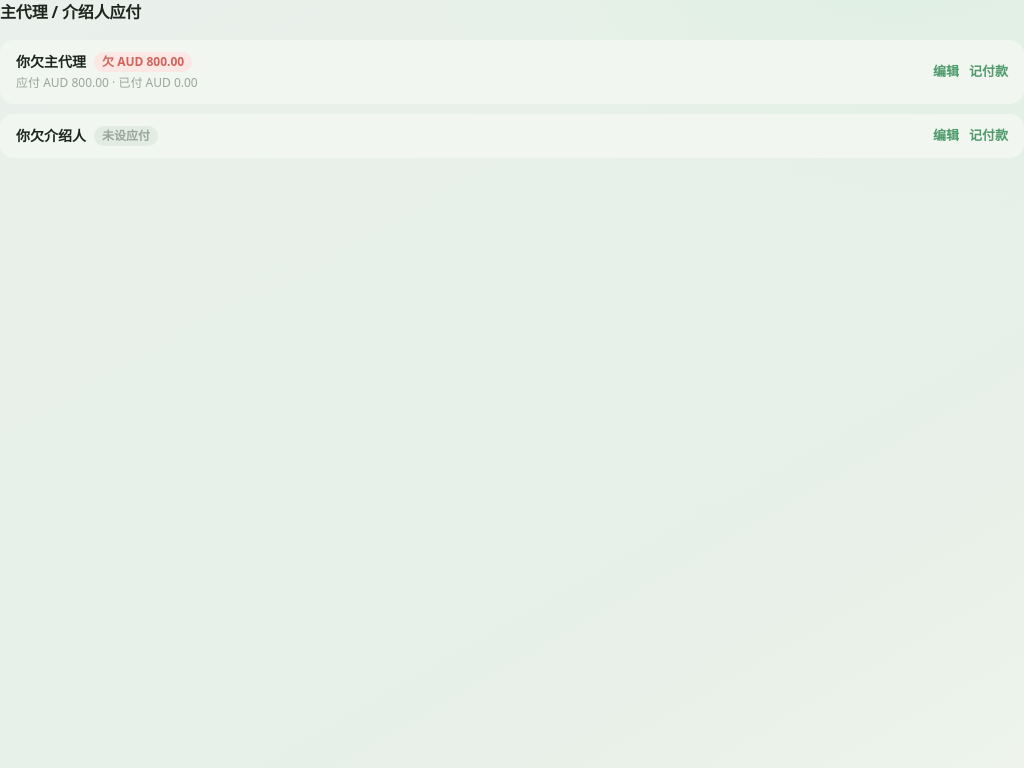
PayablePanel 每行操作 + 状态派生 › 金额必须 > 0：空/0/负数时「确认付款」禁用，正数才启用
Click the button "记付款" in the row of "AUD 0.00": {"x": 988, "y": 72} [969,62,1008,82]
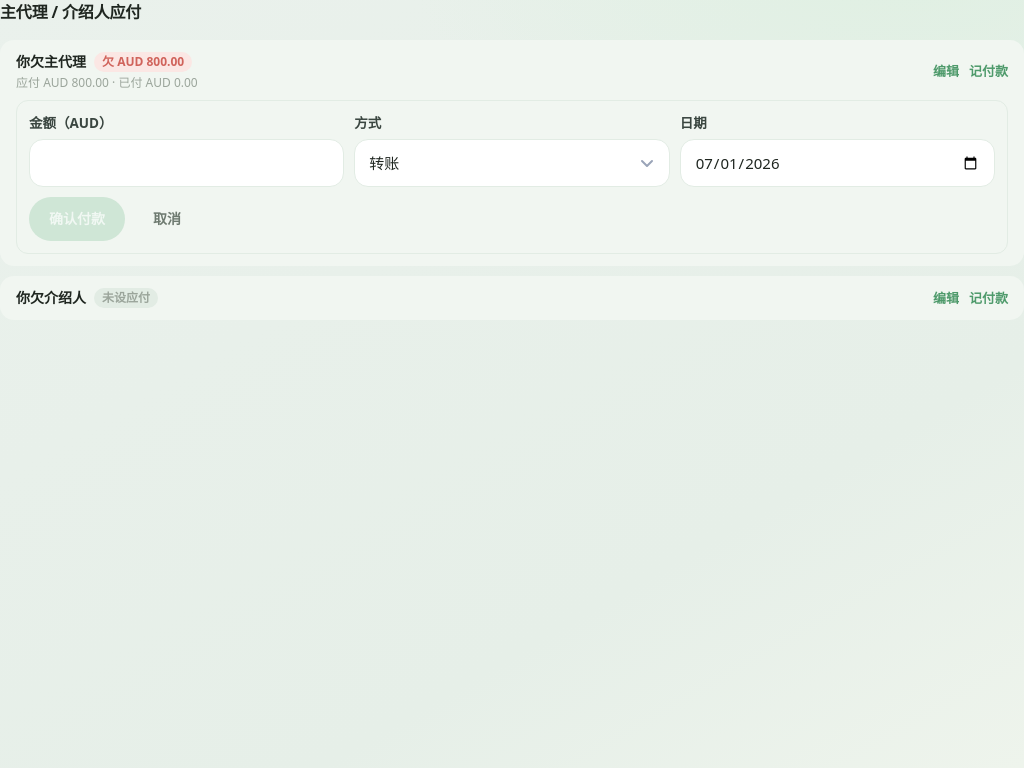
expect the button "确认付款" is disabled: met, box [29,197,125,241]
In the number field labelled "金额（AUD）": {"x": 187, "y": 163} [29,139,344,187], type "0"
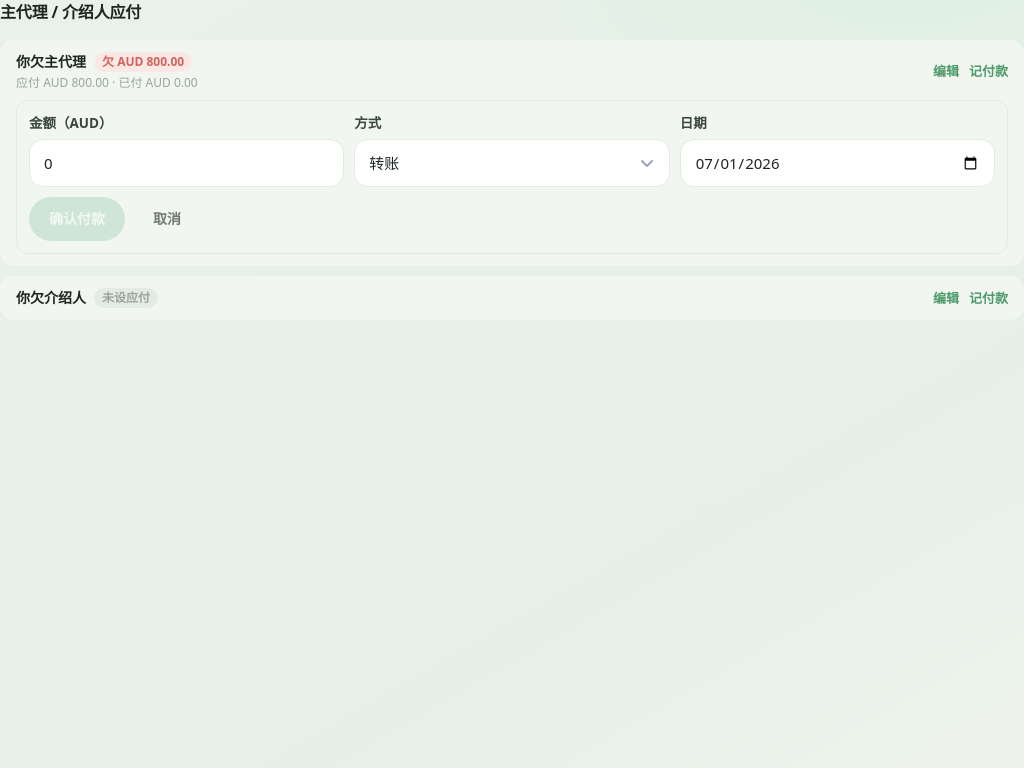
expect the button "确认付款" is disabled: met, box [29,197,125,241]
Replace the text in the number field labelled "金额（AUD）" with "-5": {"x": 187, "y": 163} [29,139,344,187]
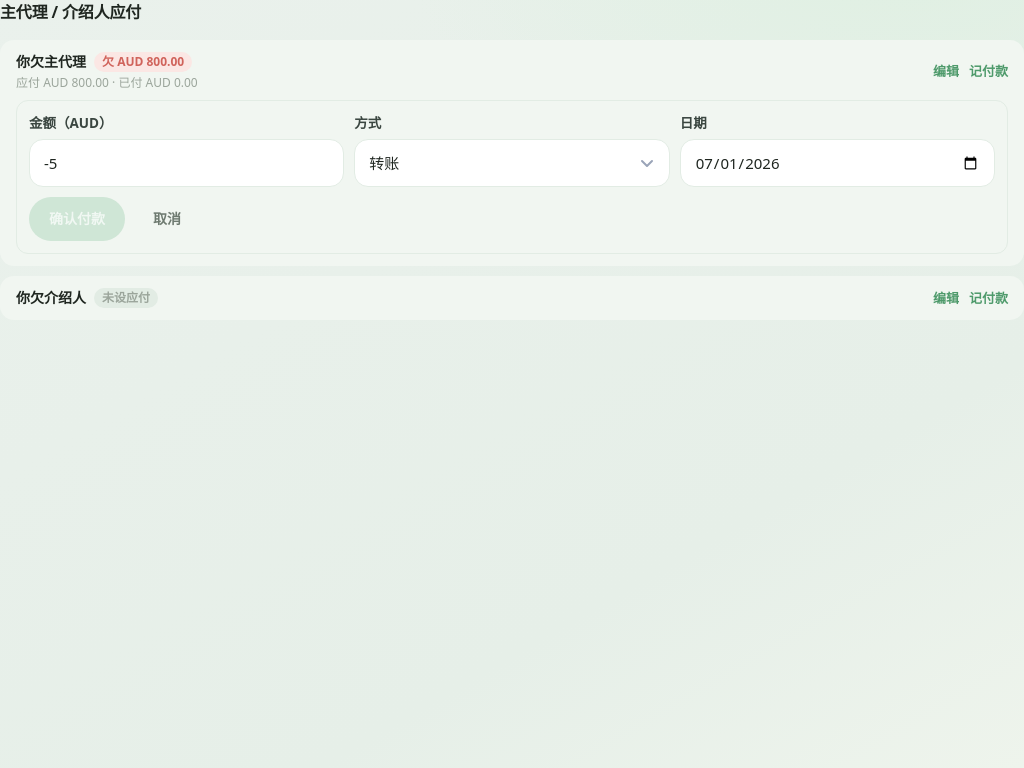
expect the button "确认付款" is disabled: met, box [29,197,125,241]
Replace the text in the number field labelled "金额（AUD）" with "100": {"x": 187, "y": 163} [29,139,344,187]
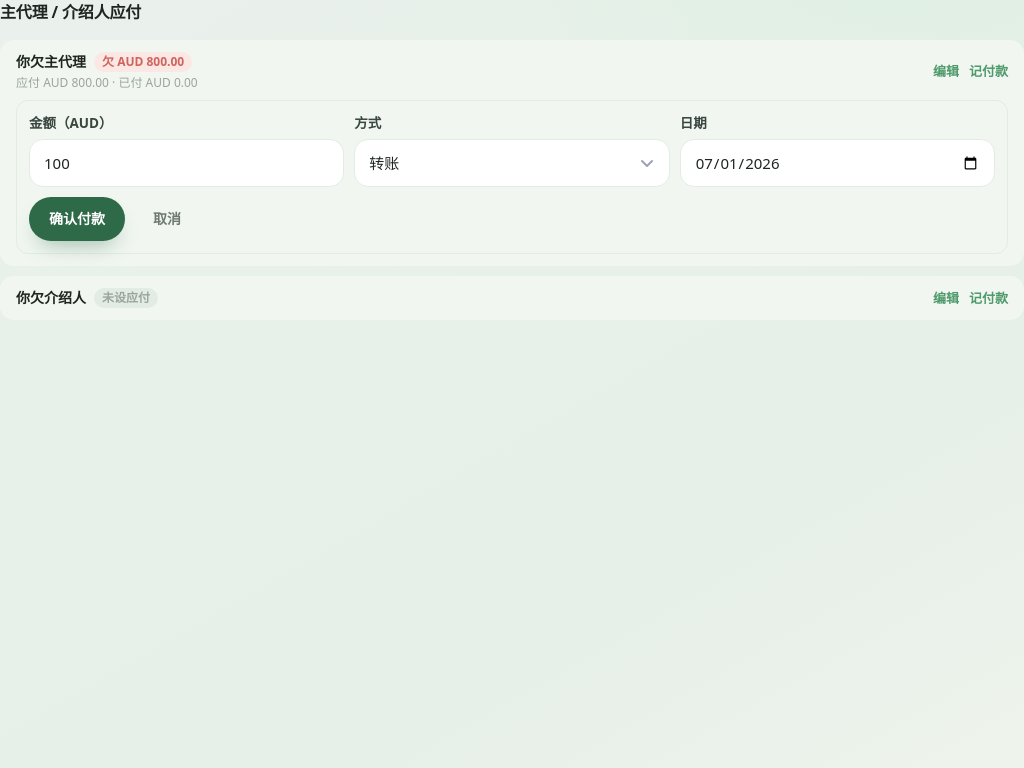
expect the button "确认付款" is enabled: met, box [29,197,125,241]
